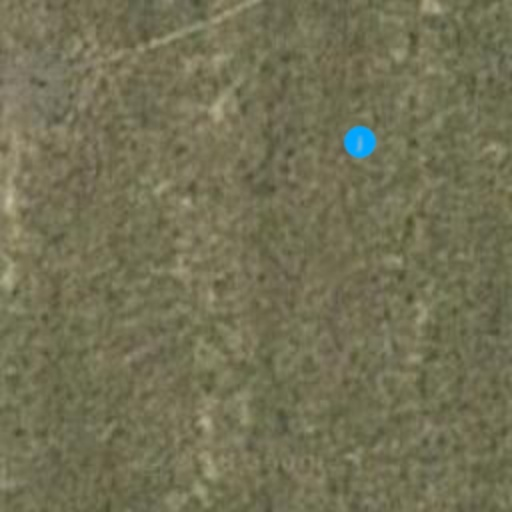circle: (342, 124, 378, 160)
